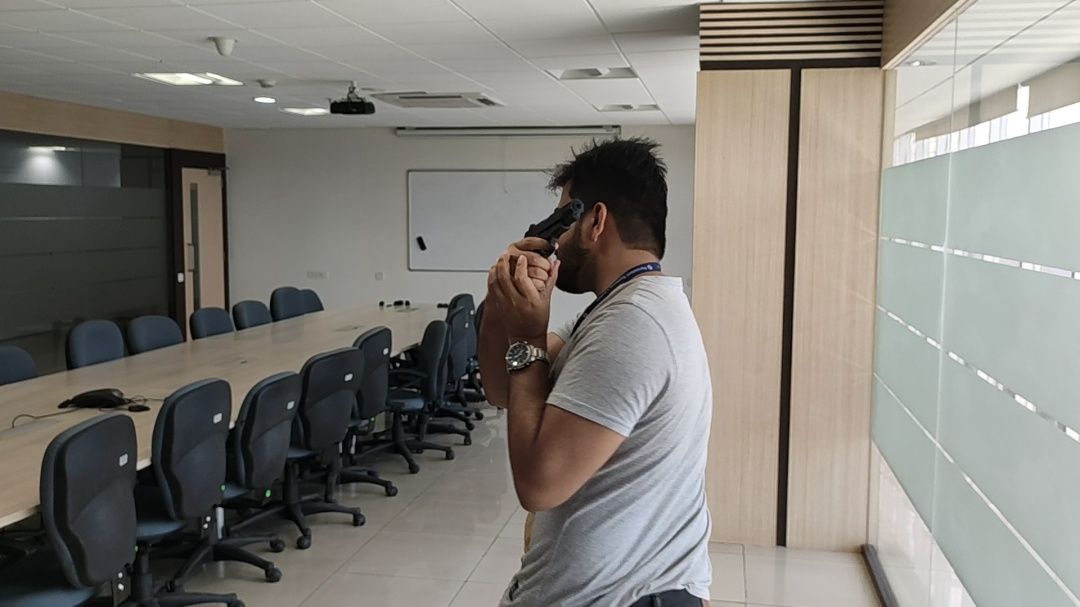gun: (524, 198, 584, 256)
